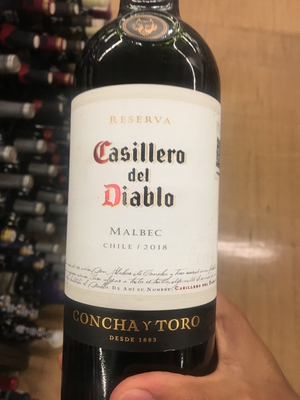casillero del diablo malbec: (56, 8, 236, 400)
